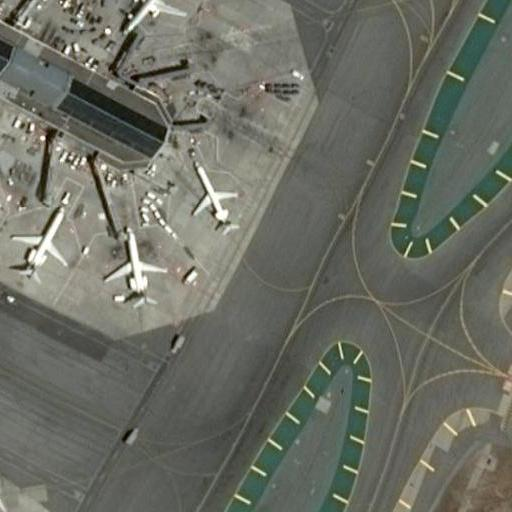Aircraft: (6, 188, 75, 268), (97, 226, 161, 301), (184, 164, 239, 227), (120, 0, 202, 30)
